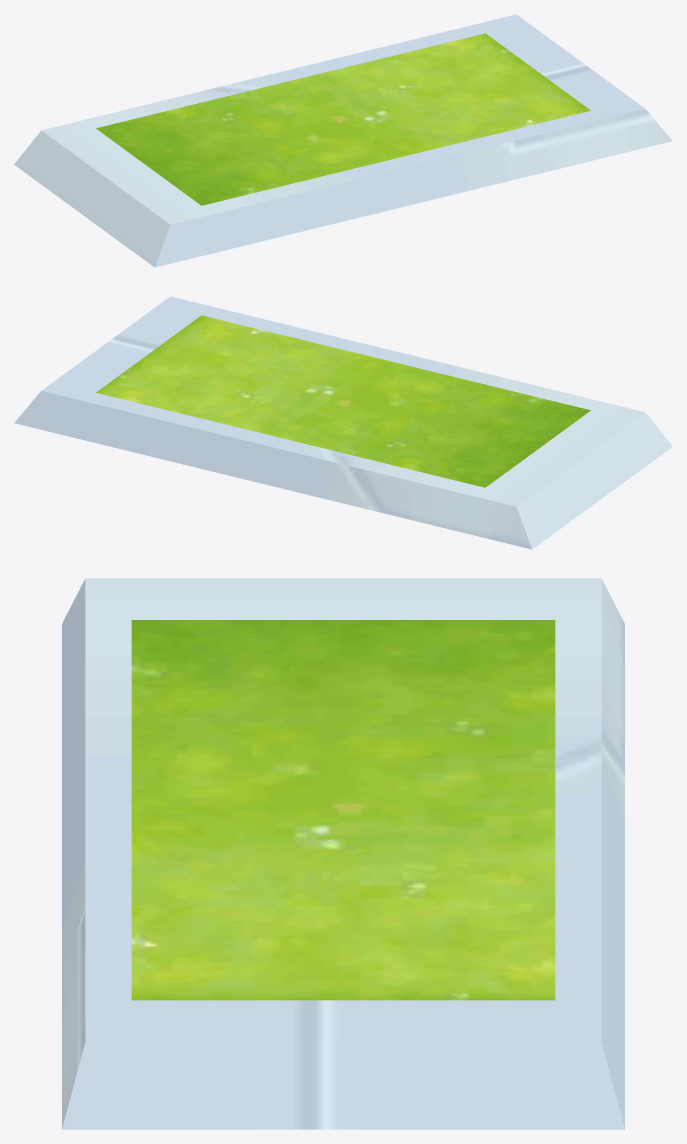
The model's file is platform.glb.
3 views of the same model, one above another, from view 1: azimuth 30°, elevation 25°; view 2: azimuth 150°, elevation 25°; view 3: azimuth 270°, elevation 25° (orthographic). The views are drawn at different scales.
Visible parts, largest first — view 1: Plane.004; view 2: Plane.004; view 3: Plane.004.
Part boxes in pixels (bbox=[...]): Plane.004: bbox=[14, 14, 672, 267]; Plane.004: bbox=[14, 296, 672, 549]; Plane.004: bbox=[62, 578, 624, 1129].
Size of the model in its own units: 2 by 0.1228 by 0.9409.
1 material, 1 textured.
